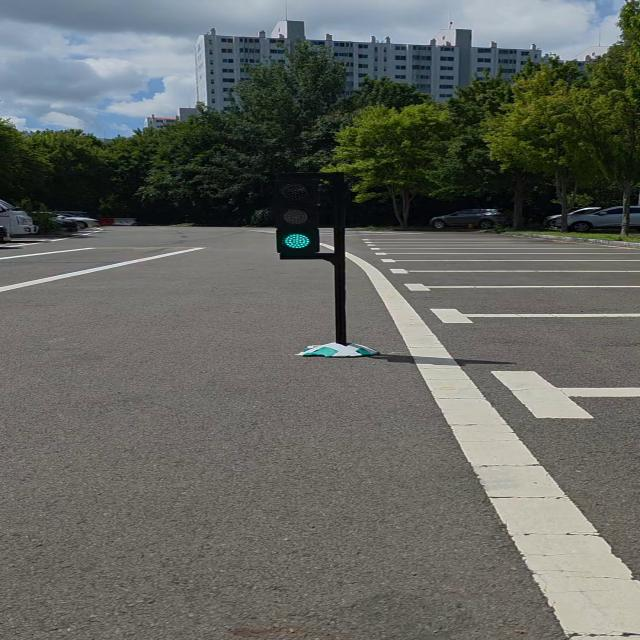green: (280, 174, 321, 258)
